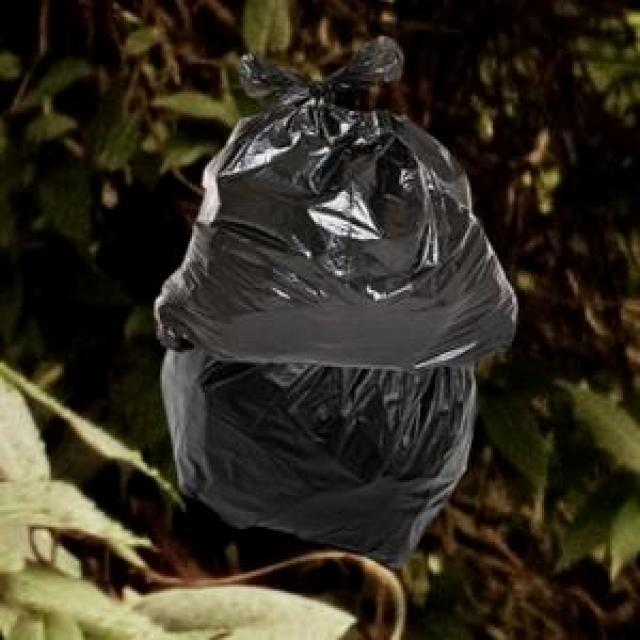Trashbag: (151, 87, 539, 370), (141, 344, 484, 576)
